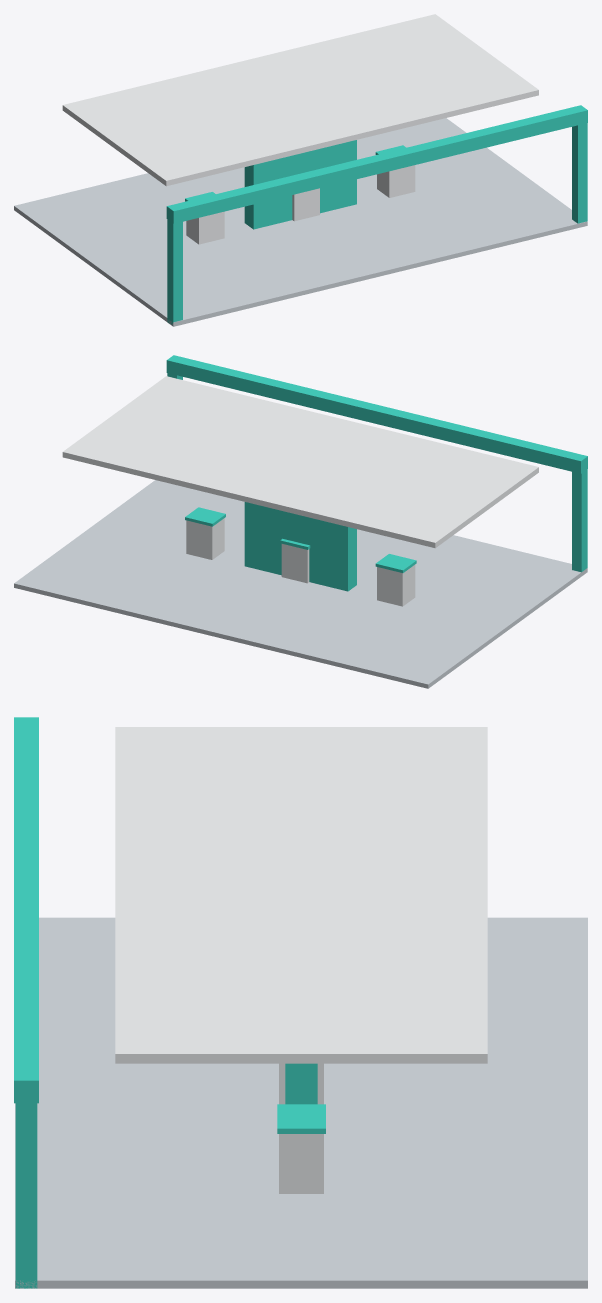
3 renders of one model, top to bottom at view 1: azimuth 30°, elevation 25°; view 2: azimuth 150°, elevation 25°; view 3: azimuth 270°, elevation 25°, orthographic. The views are drawn at different scales.
Visible parts, largest first — view 1: Exhibition Booth Concept; view 2: Exhibition Booth Concept; view 3: Exhibition Booth Concept.
Part boxes in pixels (bbox=[...]): Exhibition Booth Concept: bbox=[14, 14, 587, 326]; Exhibition Booth Concept: bbox=[14, 355, 587, 688]; Exhibition Booth Concept: bbox=[14, 717, 587, 1288].
Bounding box in the file's own units: 12 × 3.34 × 8.01.
